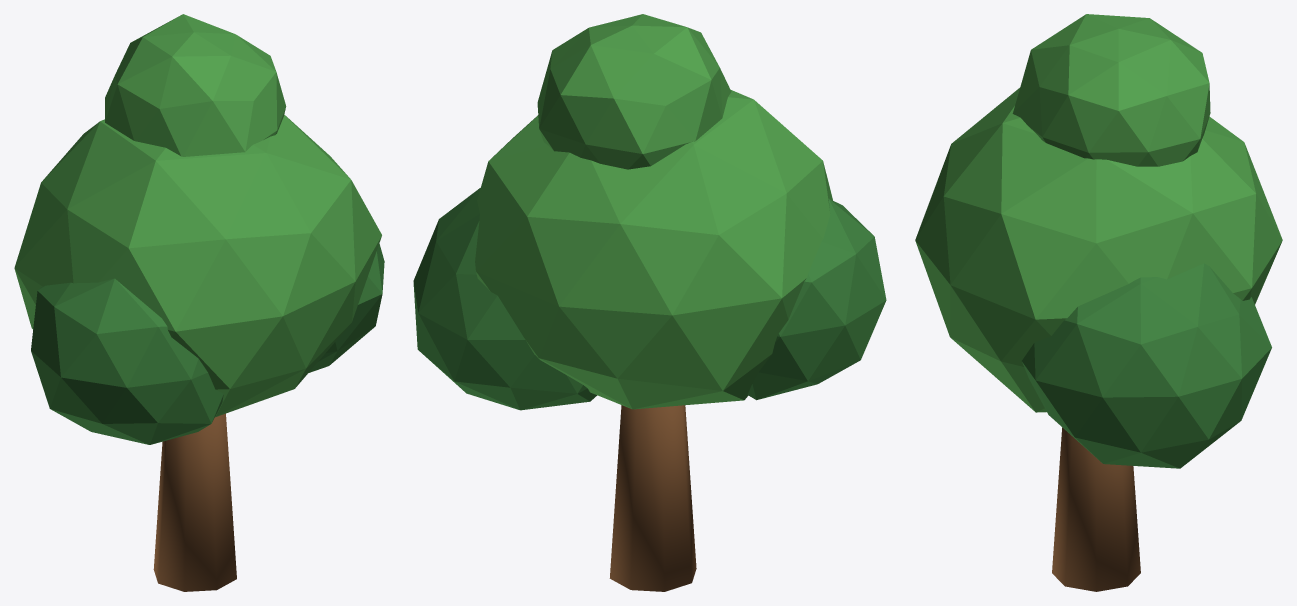
File: tree.glb
The picture shows the model from 3 angles, left to right: view 1: azimuth 30°, elevation 25°; view 2: azimuth 150°, elevation 25°; view 3: azimuth 270°, elevation 25°; orthographic projection. The views are drawn at different scales.
Visible parts, largest first — view 1: Tree; view 2: Tree; view 3: Tree.
Part boxes in pixels (left/top/right/bottom): Tree: left=14, top=14, right=384, bottom=591; Tree: left=413, top=14, right=886, bottom=591; Tree: left=915, top=14, right=1282, bottom=591.
Size of the model in its own units: 1.99 by 2.72 by 1.65.
